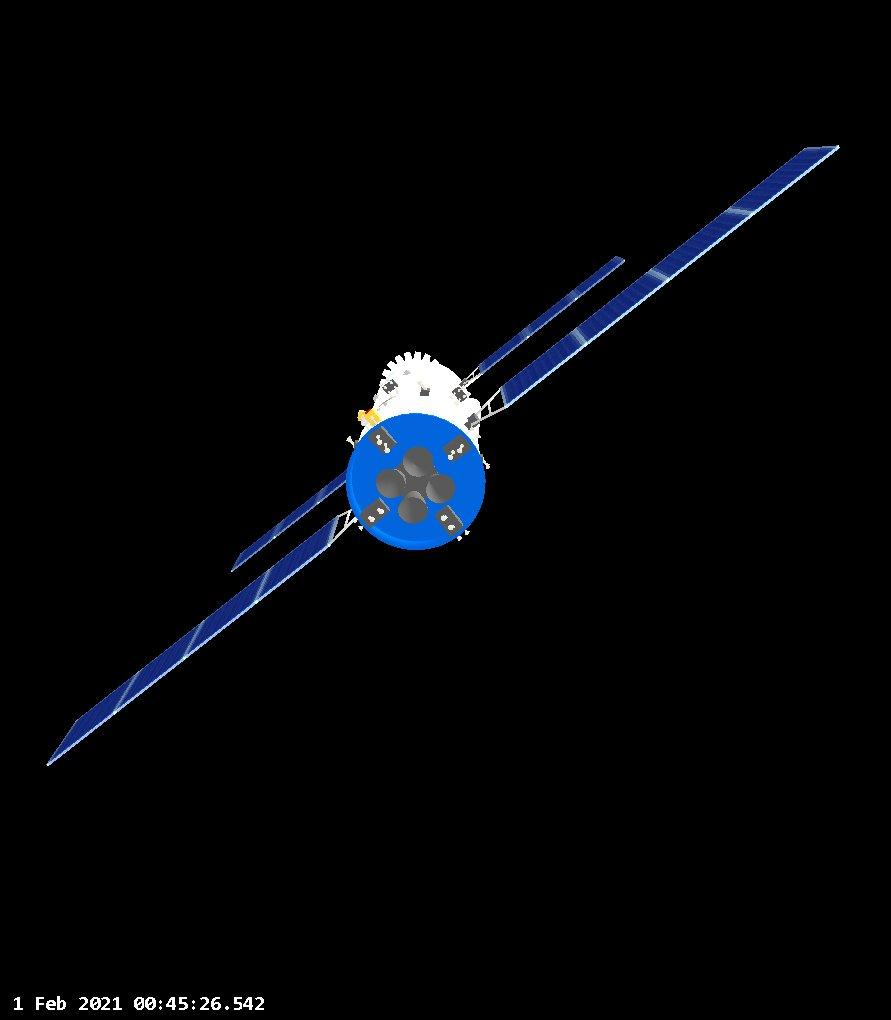body: (345, 362, 489, 551)
solar: (498, 143, 841, 412), (43, 513, 341, 769), (477, 254, 627, 376), (230, 465, 349, 575)
thruster: (398, 490, 428, 524), (403, 447, 433, 478), (376, 468, 406, 498), (427, 473, 456, 503), (346, 435, 356, 449), (447, 448, 456, 460), (375, 434, 383, 446), (384, 442, 391, 454), (483, 460, 491, 470), (440, 513, 448, 523), (376, 507, 385, 515), (367, 515, 376, 523), (457, 444, 464, 454), (358, 524, 365, 532), (456, 535, 464, 542), (447, 524, 456, 530), (464, 529, 471, 536), (353, 516, 359, 523)
